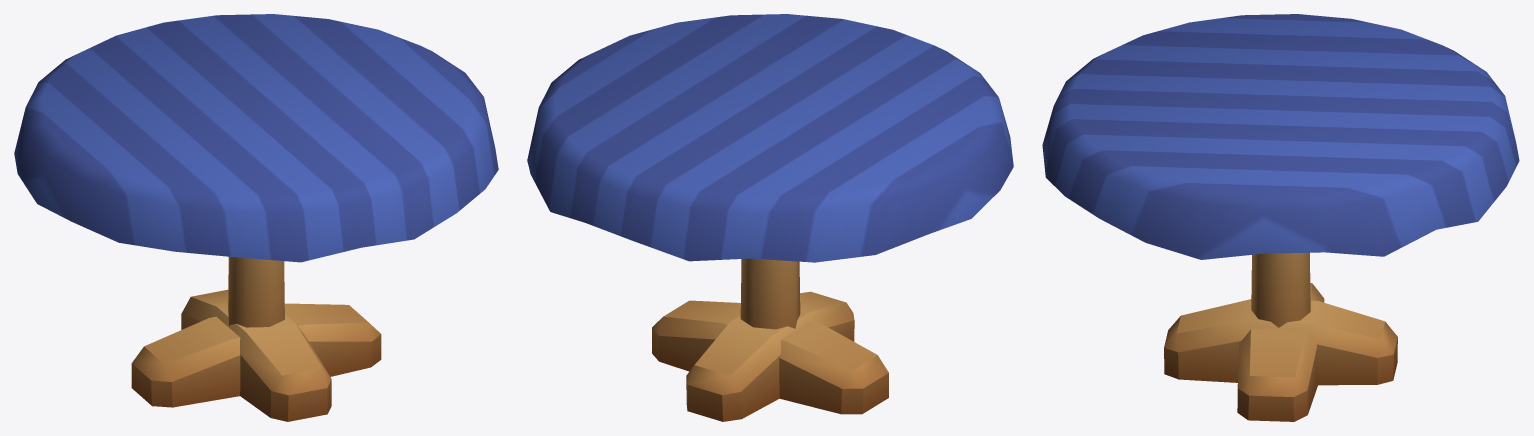
The model's file is Table_2_H.glb.
3 views of the same model, side by side, from view 1: azimuth 30°, elevation 25°; view 2: azimuth 150°, elevation 25°; view 3: azimuth 270°, elevation 25° (orthographic).
Parts seen in each view (by area): view 1: Table_2_H; view 2: Table_2_H; view 3: Table_2_H.
Part boxes in pixels (x1,y1,x2,y2): Table_2_H: (14, 14, 498, 421); Table_2_H: (527, 14, 1013, 421); Table_2_H: (1042, 14, 1519, 421).
Size of the model in its own units: 1.31 by 0.8 by 1.31.
Materials: 2 (2 with a texture image).
